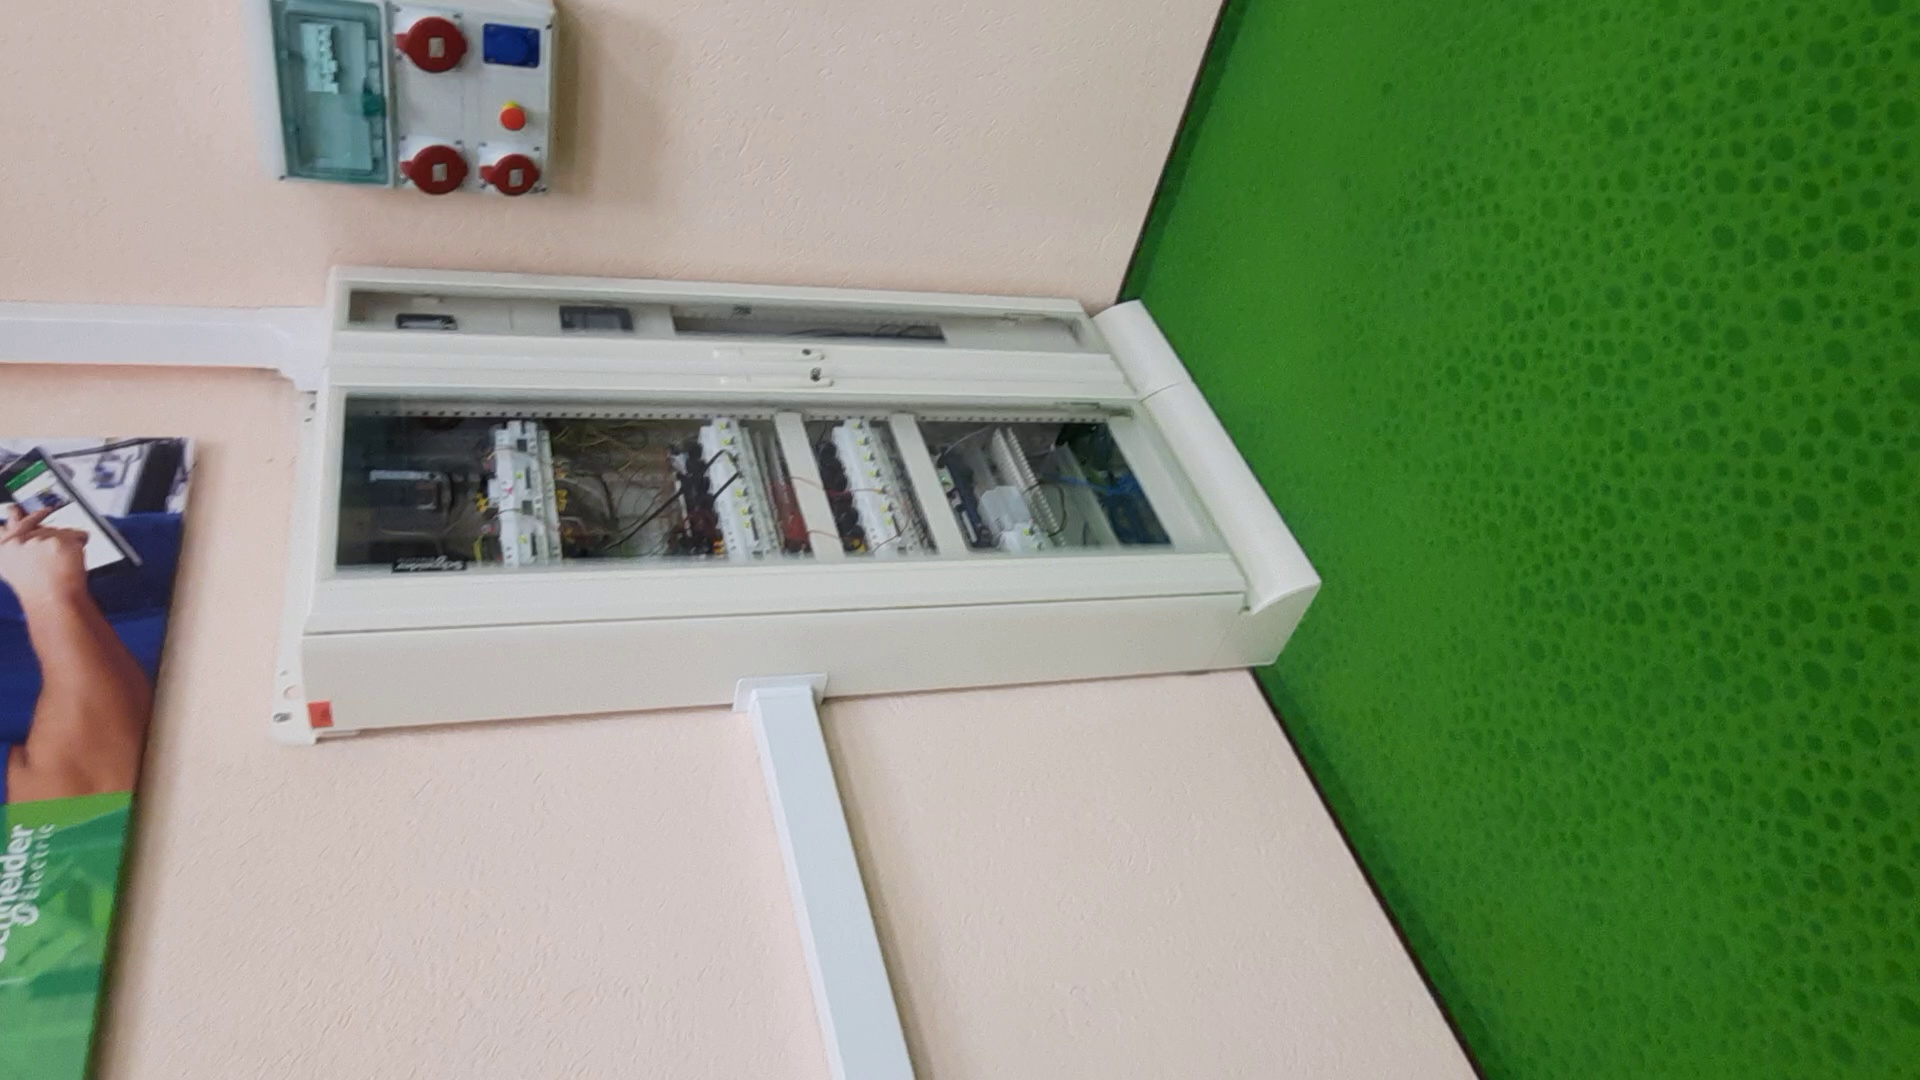stand1: (295, 253, 1325, 745)
